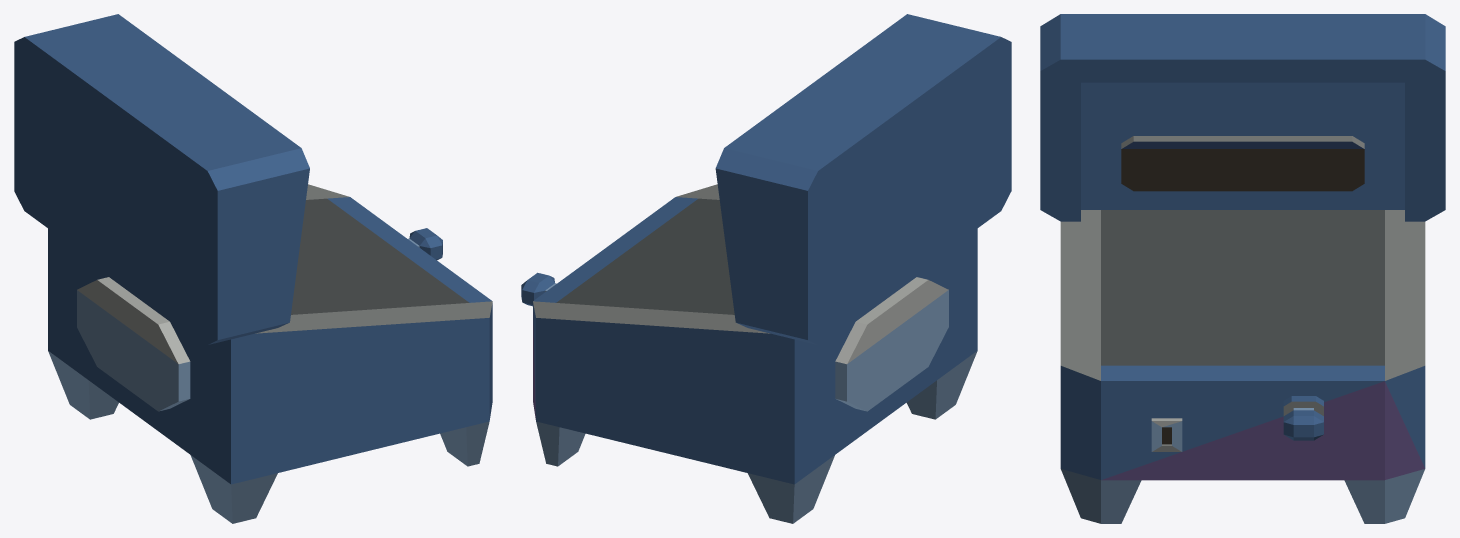
File: pinball.glb
3 views of the same model, side by side, from view 1: azimuth 30°, elevation 25°; view 2: azimuth 150°, elevation 25°; view 3: azimuth 270°, elevation 25° (orthographic).
Size of the model in its own units: 1 by 1 by 1.
